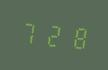eight: (65, 21, 87, 52)
seven: (18, 17, 40, 48)
two: (42, 19, 64, 50)
